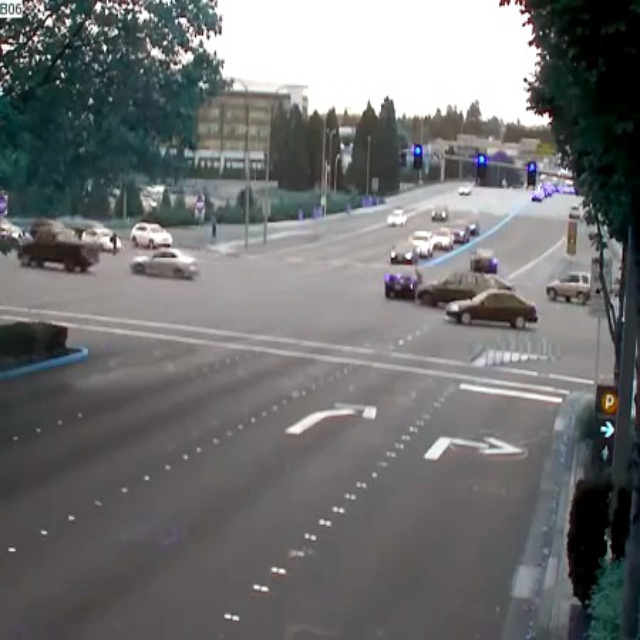acc: (379, 262, 452, 308)
